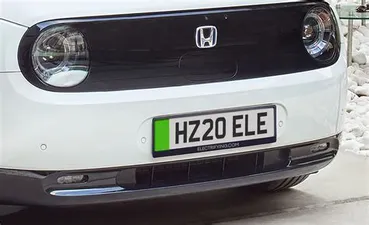number_plate: (137, 100, 298, 163)
